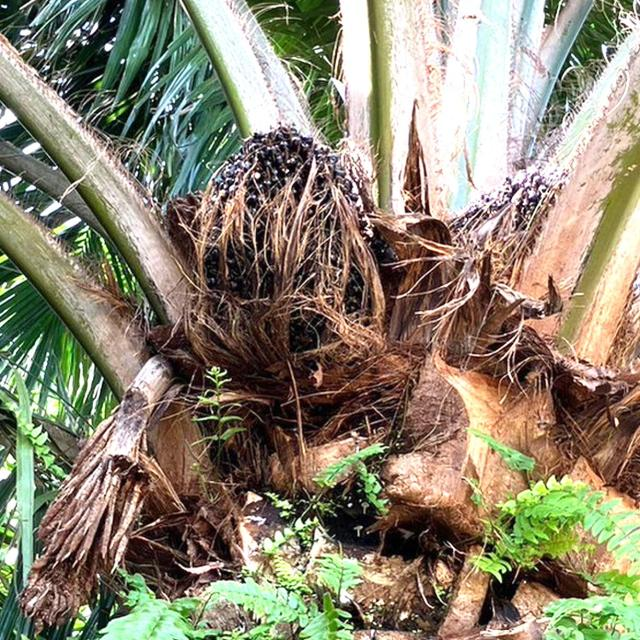unripe: (196, 128, 374, 358)
